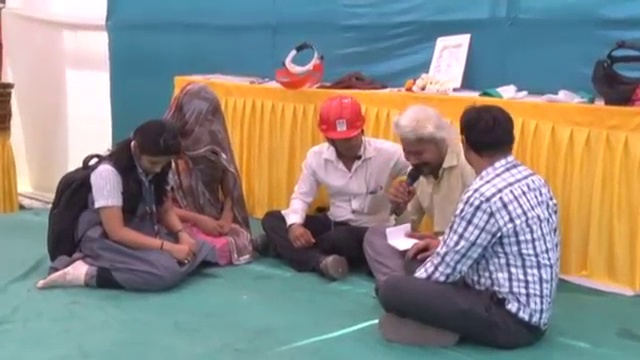helmet: (314, 92, 367, 144)
helmet_off: (455, 104, 522, 180), (393, 106, 457, 174), (118, 118, 186, 181), (167, 84, 224, 149)
helmet_on: (314, 93, 367, 167)
person: (380, 105, 560, 350), (255, 93, 407, 283), (38, 121, 208, 288), (361, 105, 478, 276), (151, 79, 257, 263)
